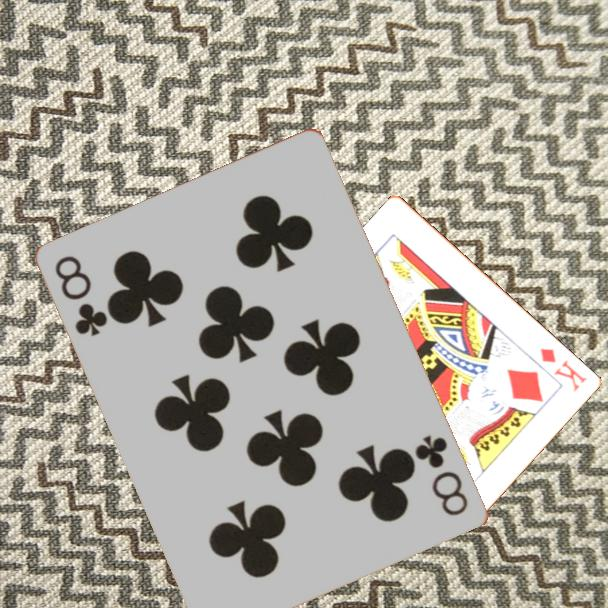c08: (412, 431, 472, 519), (52, 252, 111, 339)
d13: (537, 344, 591, 395)
